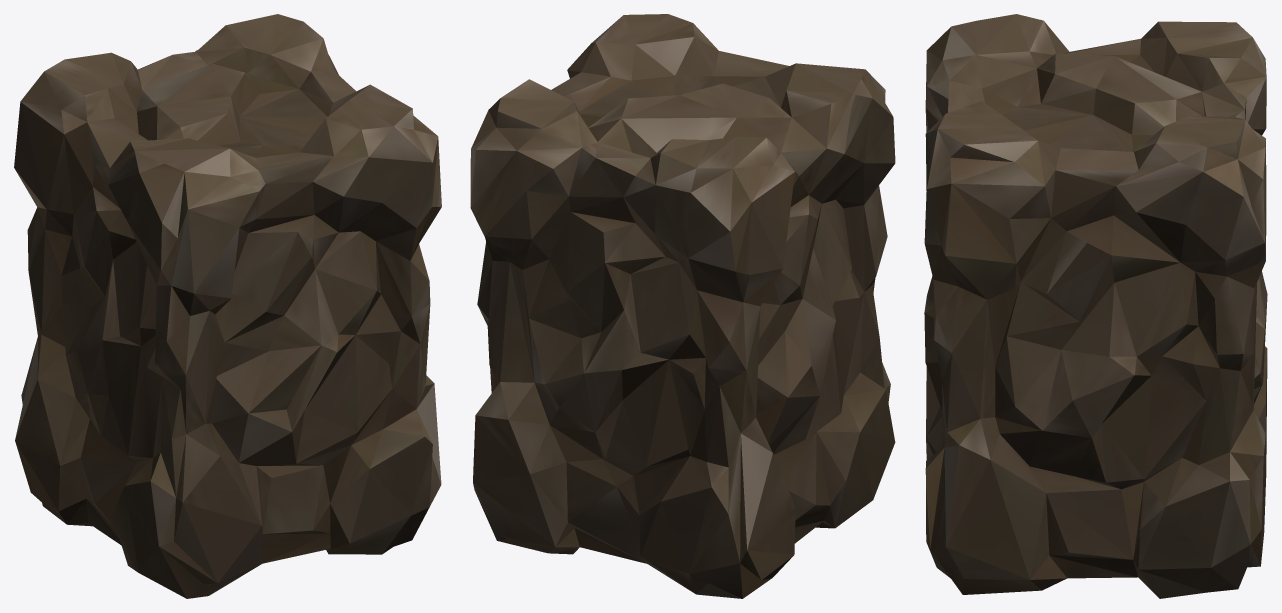
File: SM_cv_wall_rock.glb
3 renders of one model, left to right at view 1: azimuth 30°, elevation 25°; view 2: azimuth 150°, elevation 25°; view 3: azimuth 270°, elevation 25°, orthographic. The views are drawn at different scales.
Bounding box in the file's own units: 4.01 × 5.89 × 4.01.
Materials: 1 (1 with a texture image).
